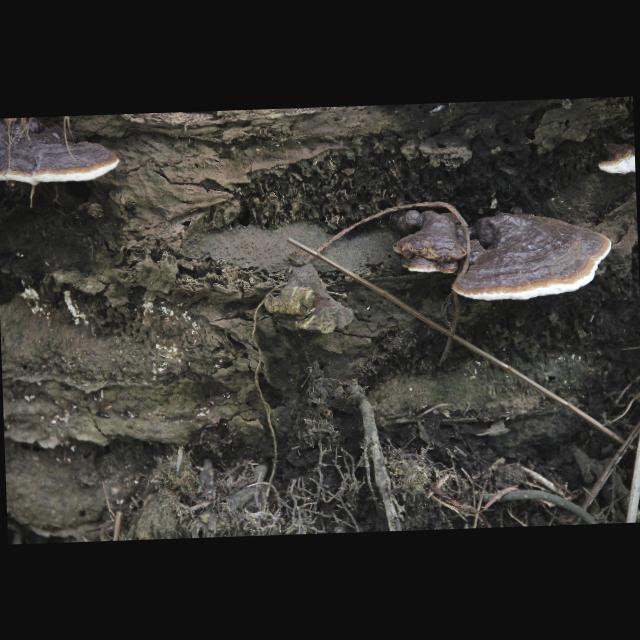ganoderma: (450, 209, 614, 304), (1, 115, 121, 187), (391, 208, 471, 277), (598, 144, 636, 176)
